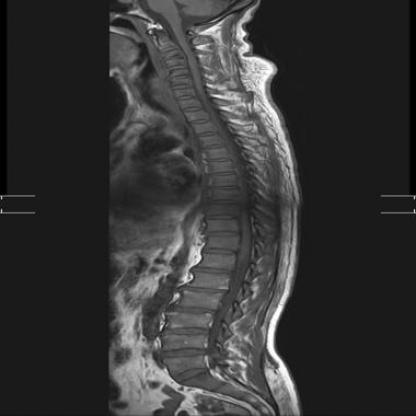Annular Tearrotation: (168, 366, 209, 381)
Disc Bulgerotation: (159, 344, 207, 359), (161, 324, 208, 339), (168, 366, 210, 381)
Disc Protrusionrotation: (176, 302, 220, 318), (167, 58, 192, 75)
